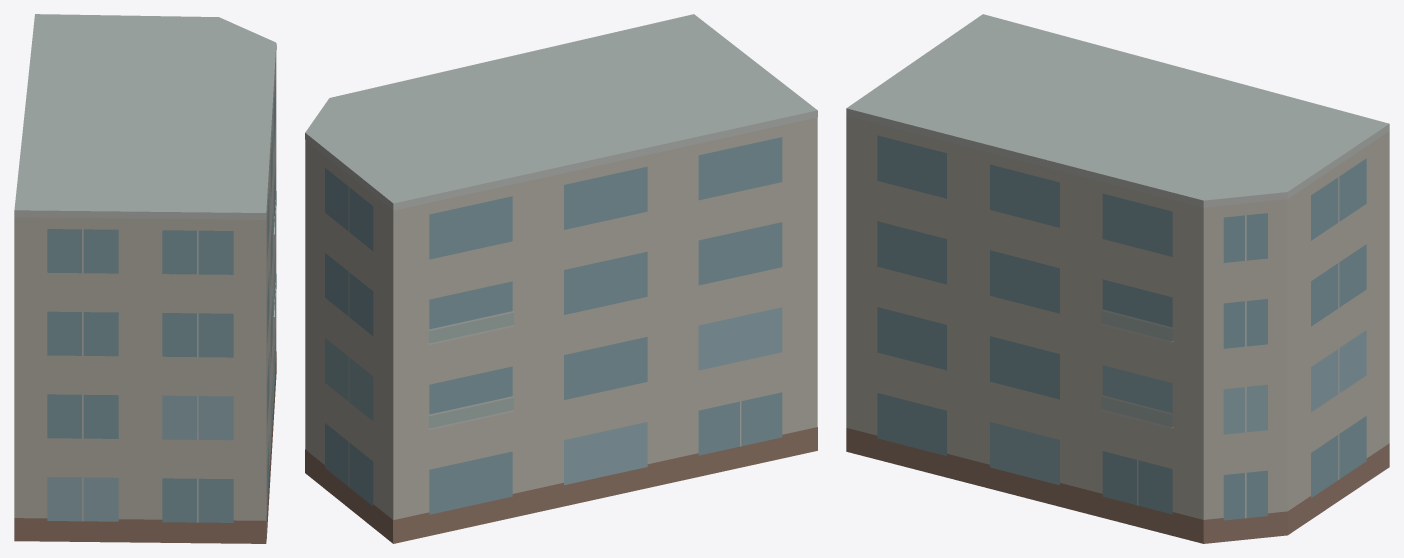
Rendered from survey-upis-32886546.glb.
3 renders of one model, left to right at view 1: azimuth 30°, elevation 25°; view 2: azimuth 150°, elevation 25°; view 3: azimuth 270°, elevation 25°, orthographic. The views are drawn at different scales.
Parts seen in each view (by area): view 1: survey-upis-32886546.tmp; view 2: survey-upis-32886546.tmp; view 3: survey-upis-32886546.tmp.
Boxes of the visible parts, x1,y1,x2,y2 form: survey-upis-32886546.tmp: (14, 14, 276, 543); survey-upis-32886546.tmp: (305, 14, 817, 543); survey-upis-32886546.tmp: (846, 14, 1389, 543).
Bounding box in the file's own units: 13.64 × 11.7 × 16.79.
